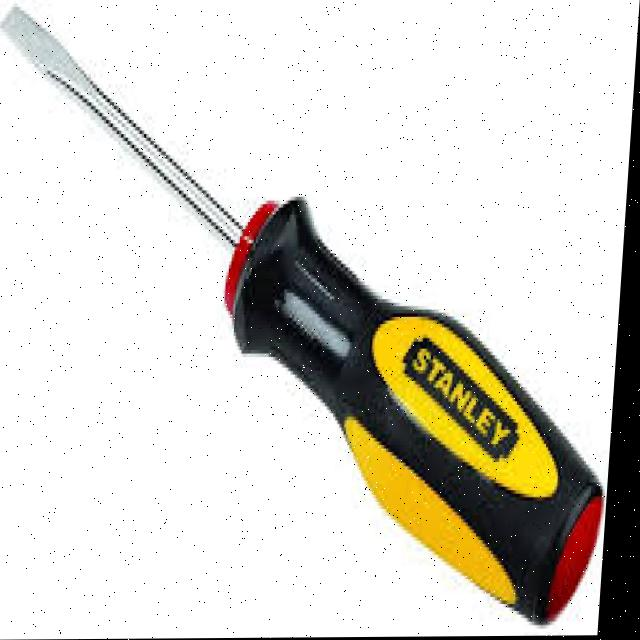Screwdriver: (5, 10, 609, 622)
